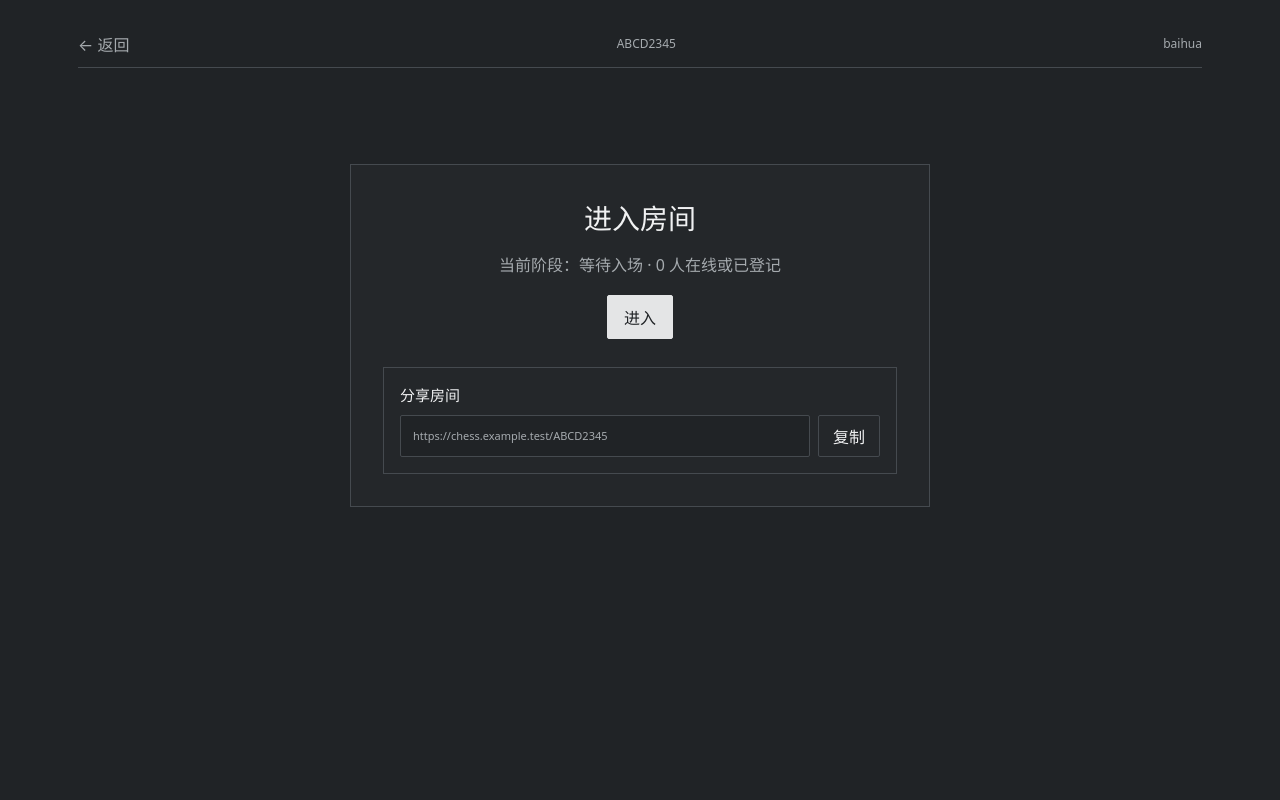
Test: room board interactions › lists every spectator and lets the current user take and leave a seat
Click the button "进入" at (640, 317), box [607,295,673,339]
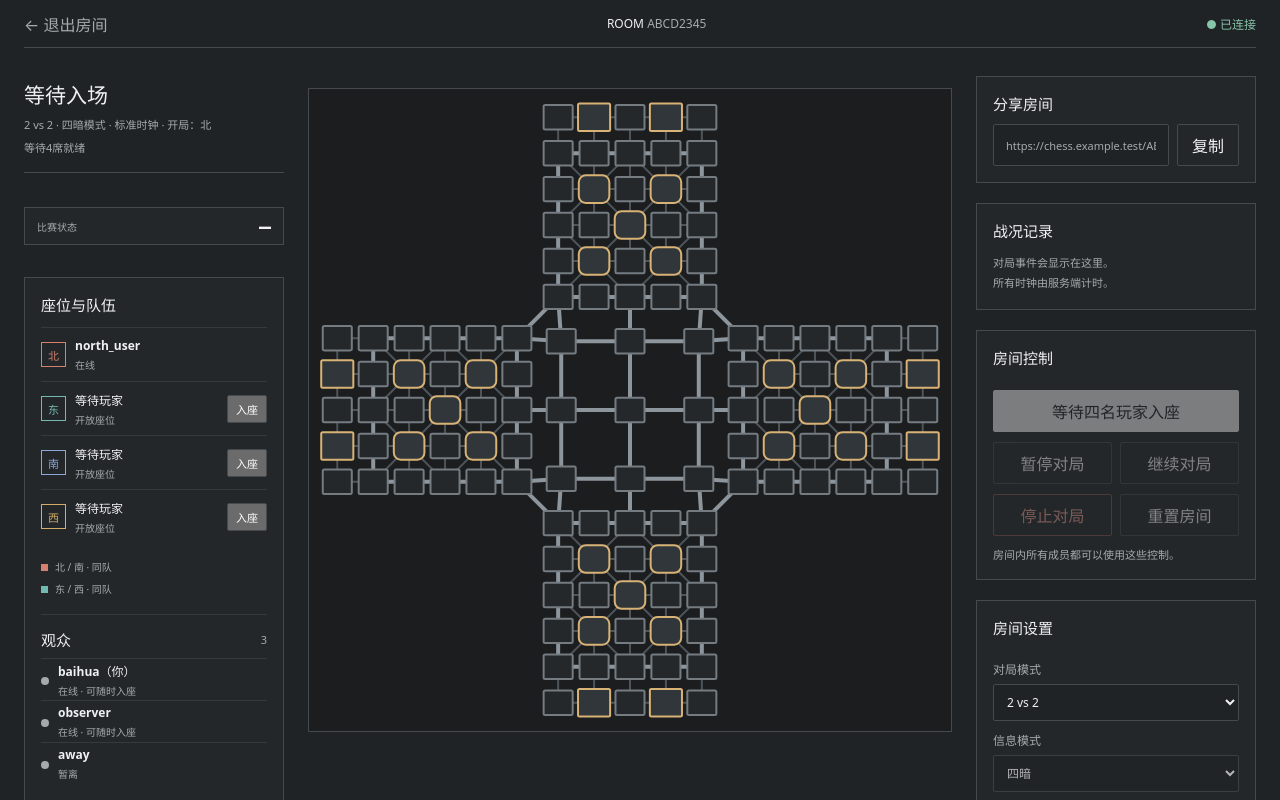
Expected: the heading "房间控制" is shown, [993,347,1053,368]
Expected: the element with class "room-control-panel" shows "房间内所有成员都可以使用这些控制", [993,547,1180,562]
Expected: the button "等待四名玩家入座" is disabled, [993,390,1239,432]
Click the 1st button "入座" at (247, 409), box [227,395,267,423]
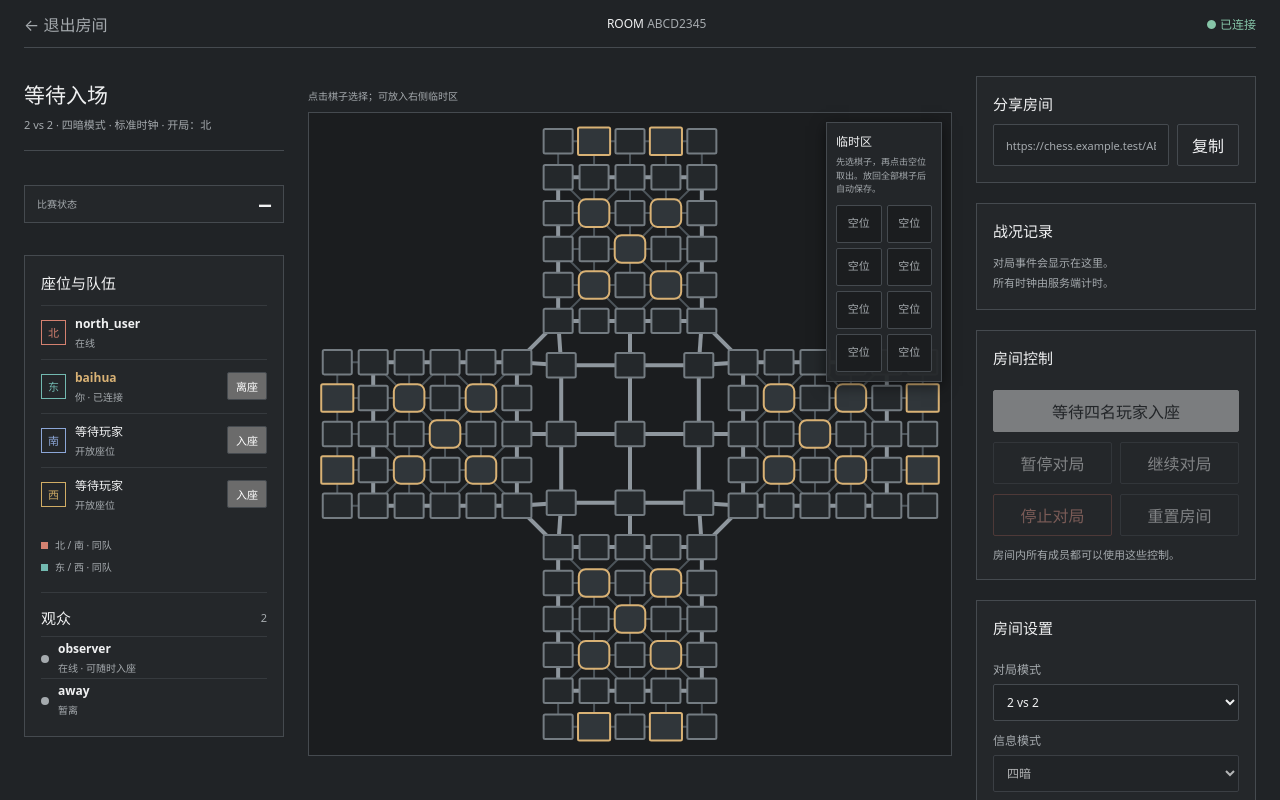
Expected: the element with class "spectator-list" shows "observer", [58,640,111,657]
Expected: the element with class "spectator-list" shows "away", [58,682,90,699]
Expected: the element with class "spectator-list" no longer shows "baihua"
Click the button "离座" at (247, 386), box [227,372,267,400]
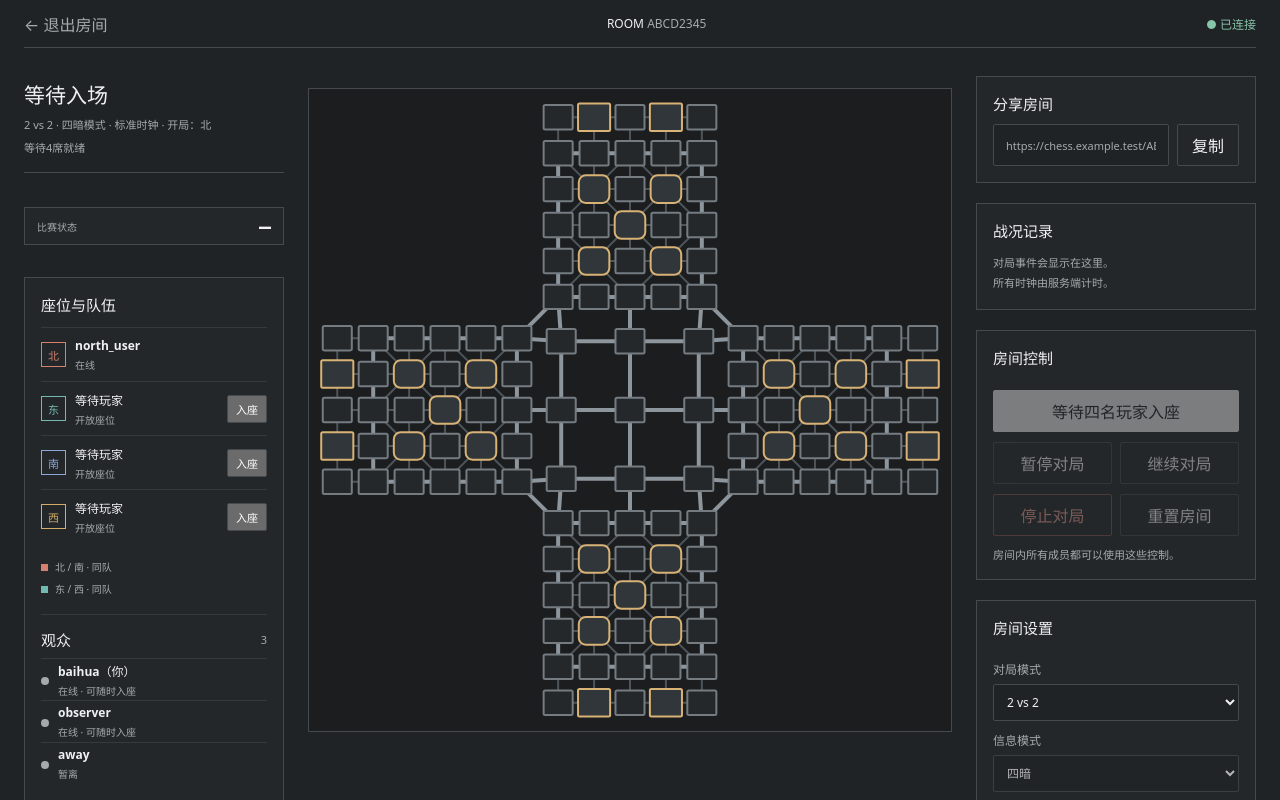
Expected: the element with class "spectator-list" shows "observer", [58,704,111,721]
Expected: the element with class "spectator-list" shows "baihua", [58,663,100,680]
